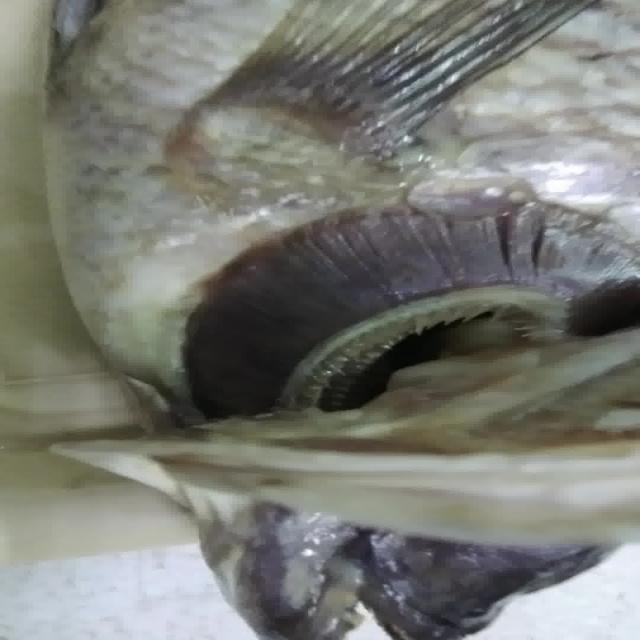Non-Fresh: (142, 173, 640, 419)
